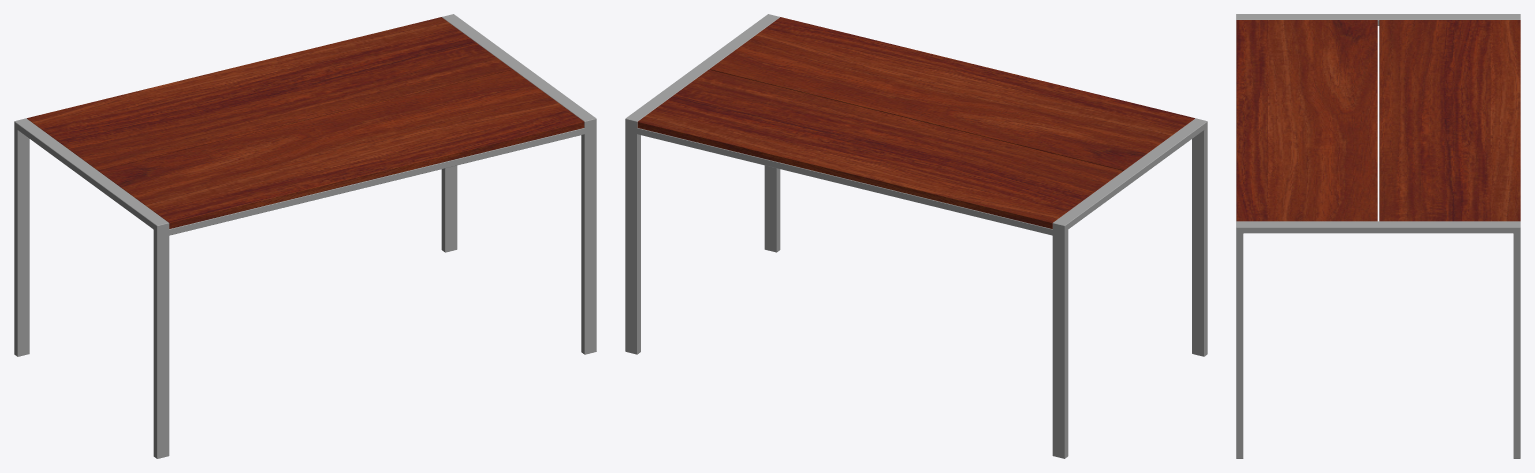
Rendered from tossa_exo_fbx_upY.fbx.
3 renders of one model, left to right at view 1: azimuth 30°, elevation 25°; view 2: azimuth 150°, elevation 25°; view 3: azimuth 270°, elevation 25°, orthographic.
Visible parts, largest first — view 1: tossa_exo; view 2: tossa_exo; view 3: tossa_exo.
Boxes of the visible parts, x1=… form: tossa_exo: x1=14, y1=14, x2=596, y2=458; tossa_exo: x1=625, y1=14, x2=1207, y2=458; tossa_exo: x1=1236, y1=14, x2=1520, y2=458.
Bounding box in the file's own units: 142 × 72 × 80.
